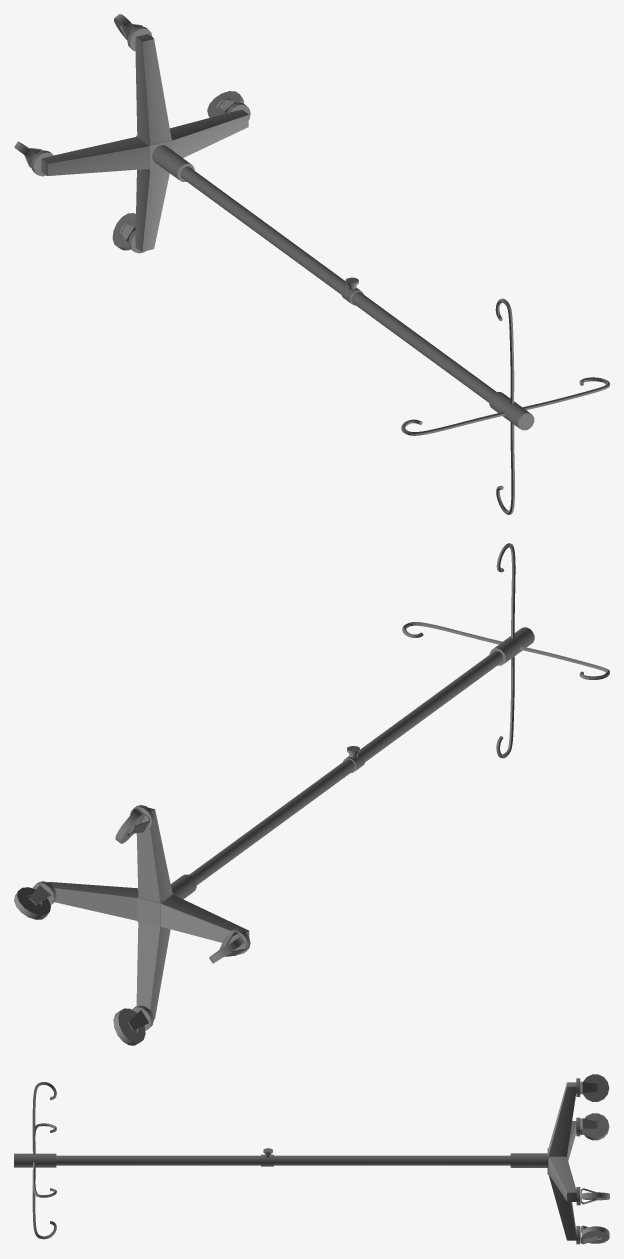
Rendered from flebo.obj.
The picture shows the model from 3 angles, top to bottom: view 1: azimuth 30°, elevation 25°; view 2: azimuth 150°, elevation 25°; view 3: azimuth 270°, elevation 25°; orthographic projection. The views are drawn at different scales.
Parts seen in each view (by area): view 1: submesh; view 2: submesh; view 3: submesh.
Part boxes in pixels (<box>): submesh: <box>14,14,609,514</box>; submesh: <box>14,543,609,1045</box>; submesh: <box>14,1074,609,1244</box>.
Size of the model in its own units: 0.6354 by 0.6304 by 2.
Materials: 1 (1 with a texture image).
